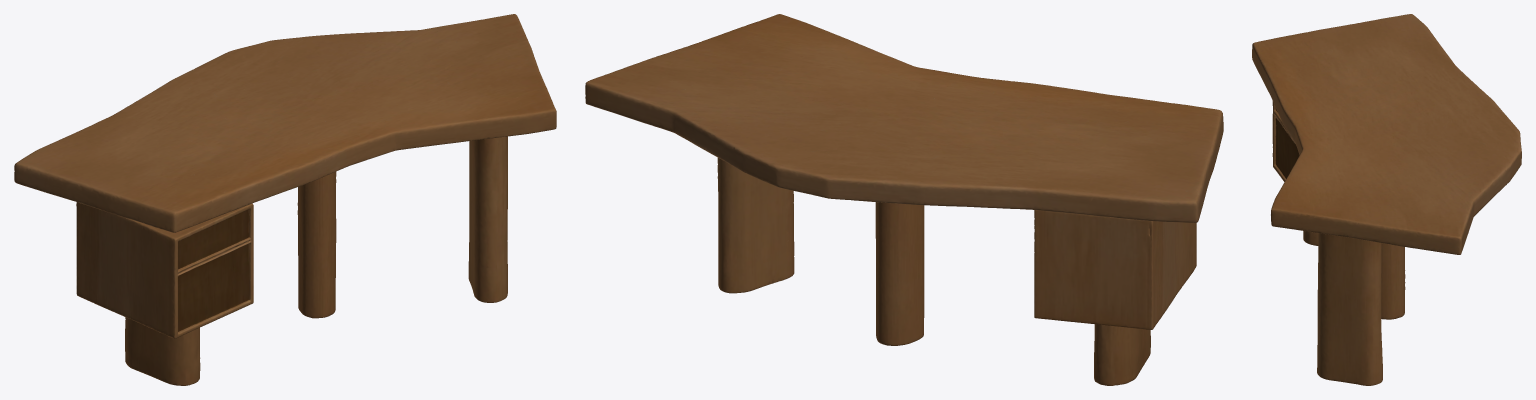
The model's file is mesa_con_cajon.glb.
3 views of the same model, side by side, from view 1: azimuth 30°, elevation 25°; view 2: azimuth 150°, elevation 25°; view 3: azimuth 270°, elevation 25° (orthographic). The views are drawn at different scales.
Visible parts, largest first — view 1: world; view 2: world; view 3: world.
Boxes of the visible parts, box(x1,y1,x2,y2) form: world: box(14, 14, 556, 385); world: box(585, 14, 1223, 385); world: box(1252, 14, 1521, 385).
Bounding box in the file's own units: 1 × 0.3702 × 0.5063.
Materials: 1 (1 with a texture image).
